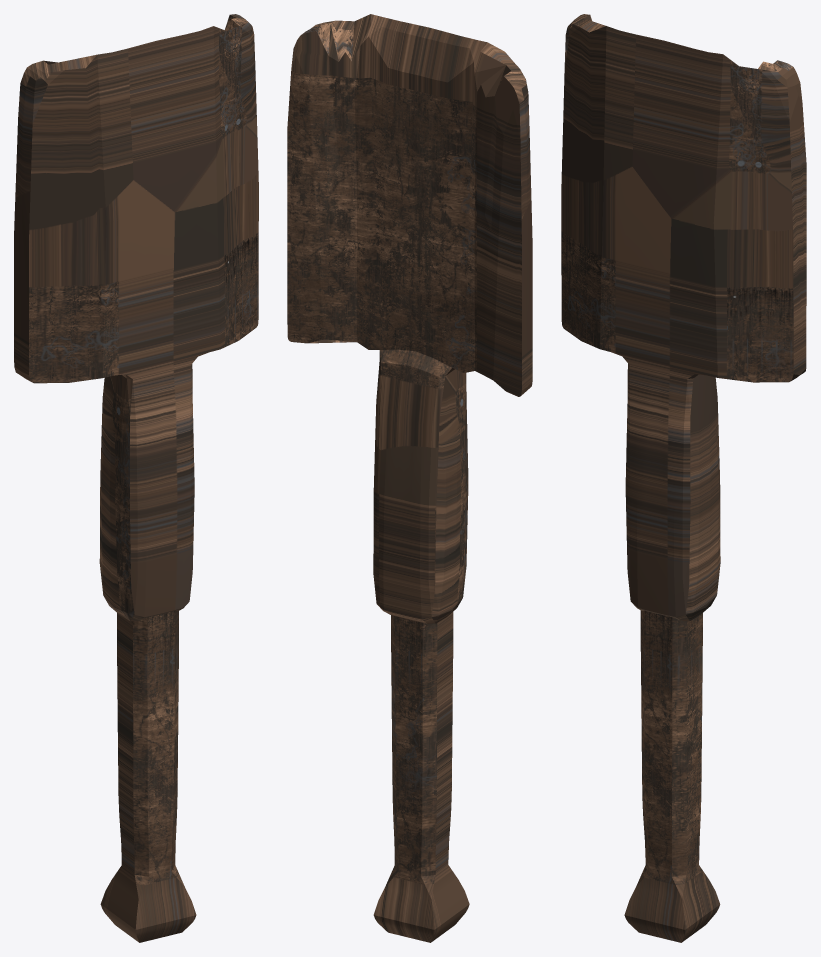
The model's file is Shovel.fbx.
3 views of the same model, side by side, from view 1: azimuth 30°, elevation 25°; view 2: azimuth 150°, elevation 25°; view 3: azimuth 330°, elevation 25° (orthographic).
Visible parts, largest first — view 1: Cube.001, Cube; view 2: Cube.001, Cube; view 3: Cube.001, Cube.
Boxes of the visible parts, x1=… form: Cube.001: x1=14, y1=14, x2=258, y2=621; Cube: x1=100, y1=611, x2=196, y2=942; Cube.001: x1=287, y1=14, x2=532, y2=623; Cube: x1=373, y1=612, x2=469, y2=942; Cube.001: x1=561, y1=14, x2=806, y2=621; Cube: x1=624, y1=610, x2=720, y2=942.
Size of the model in its own units: 129 by 476 by 36.23.
